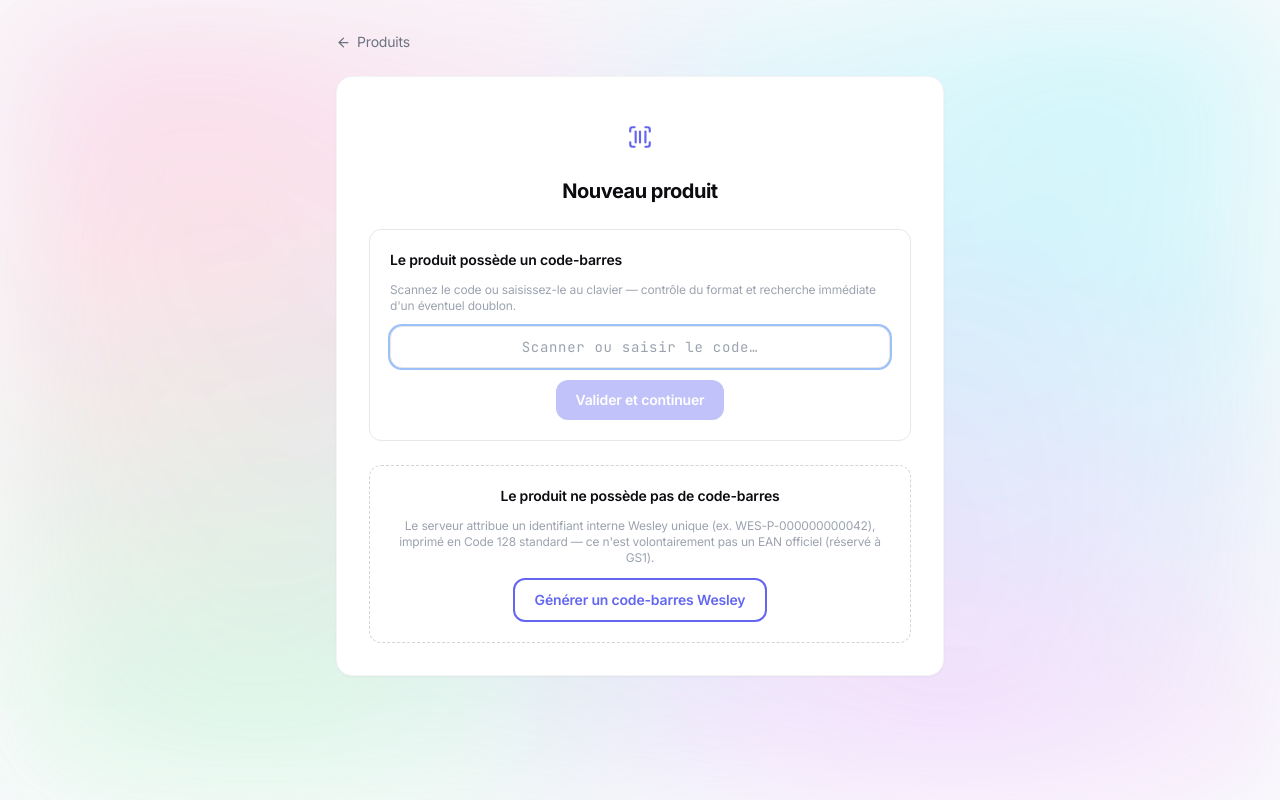
Porte Nouveau produit — deux parcours › « Générer un code-barres Wesley » → code SERVEUR affecté, champ non modifiable (test 3)
This screenshot has width=1280, height=800.
Click the button "Générer un code-barres Wesley": (640, 600) [513, 578, 767, 622]
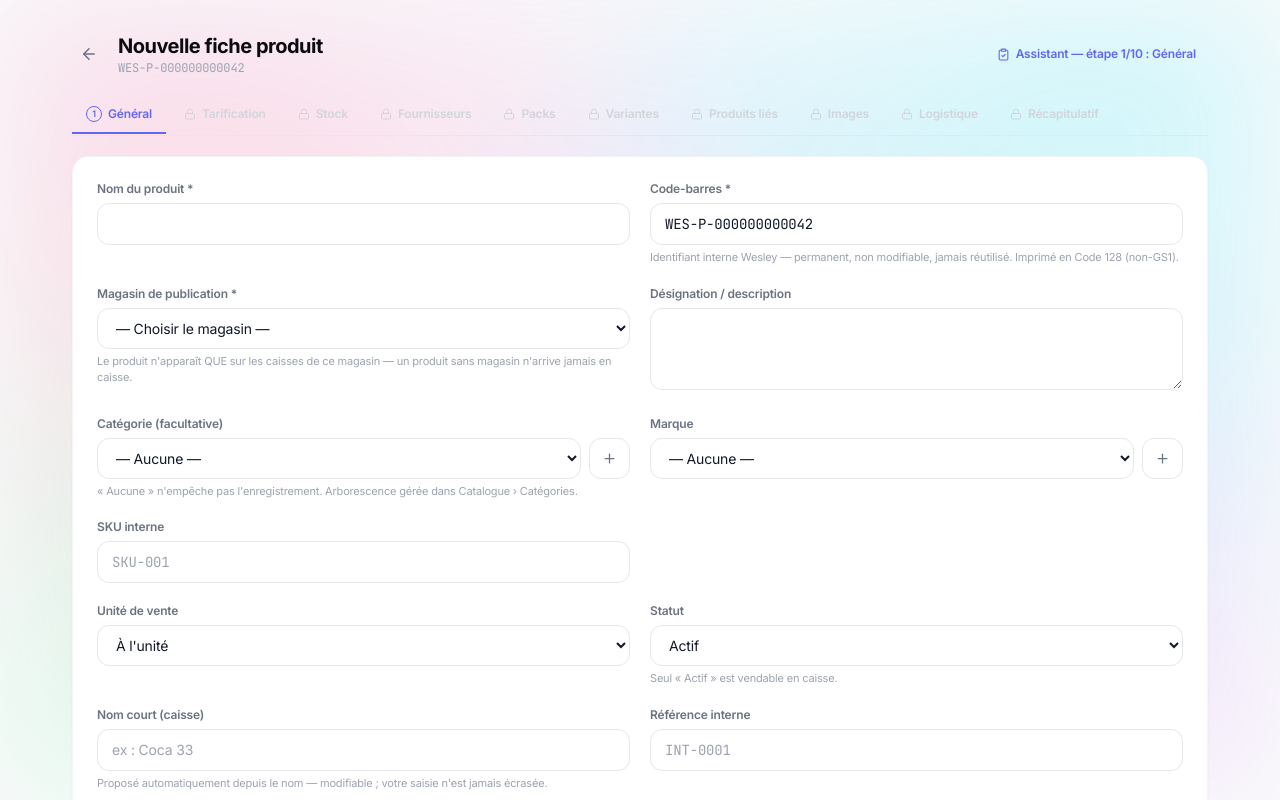
Now the text "Le produit ne possède pas de code-barres" is gone
Now the field showing "WES-P-000000000042" below "Code-barres *" is disabled, box [650, 203, 1183, 245]
Now the text "permanent, non modifiable" is shown, box [650, 250, 1179, 264]
